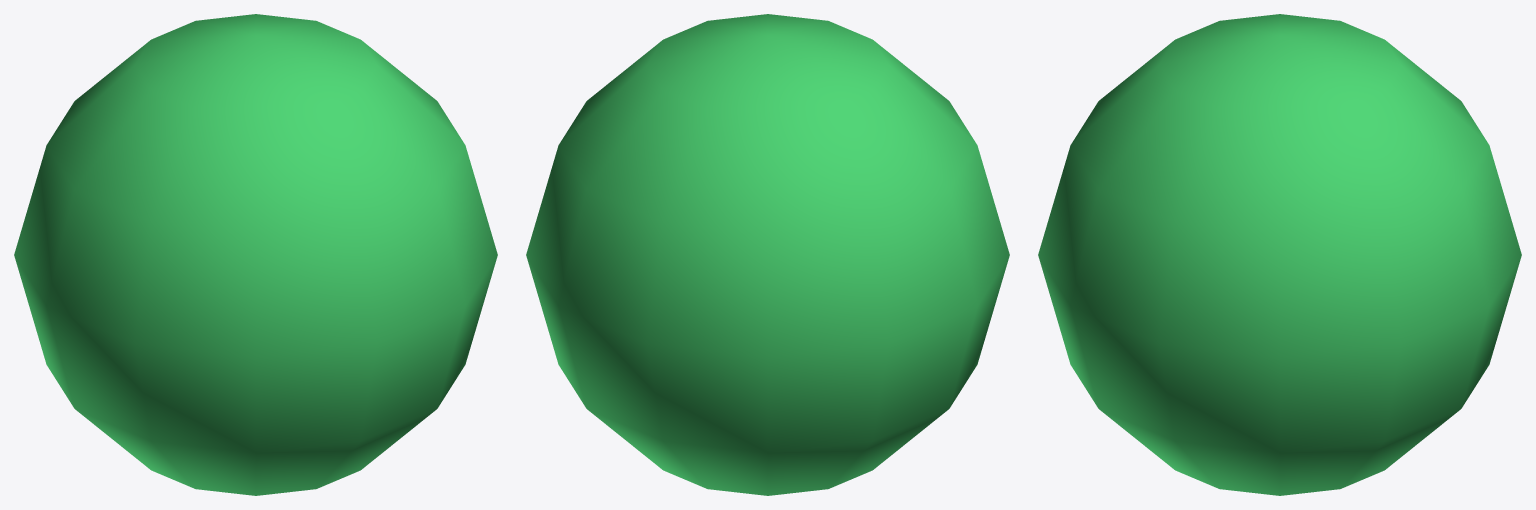
The model's file is paintball_green.glb.
The picture shows the model from 3 angles, left to right: view 1: azimuth 30°, elevation 25°; view 2: azimuth 150°, elevation 25°; view 3: azimuth 270°, elevation 25°; orthographic projection.
Parts seen in each view (by area): view 1: SM_Paintball; view 2: SM_Paintball; view 3: SM_Paintball.
Part boxes in pixels (x1,y1,x2,y2): SM_Paintball: [14, 14, 497, 495]; SM_Paintball: [526, 14, 1009, 495]; SM_Paintball: [1038, 14, 1521, 495].
Bounding box in the file's own units: 0.018 × 0.018 × 0.018.
